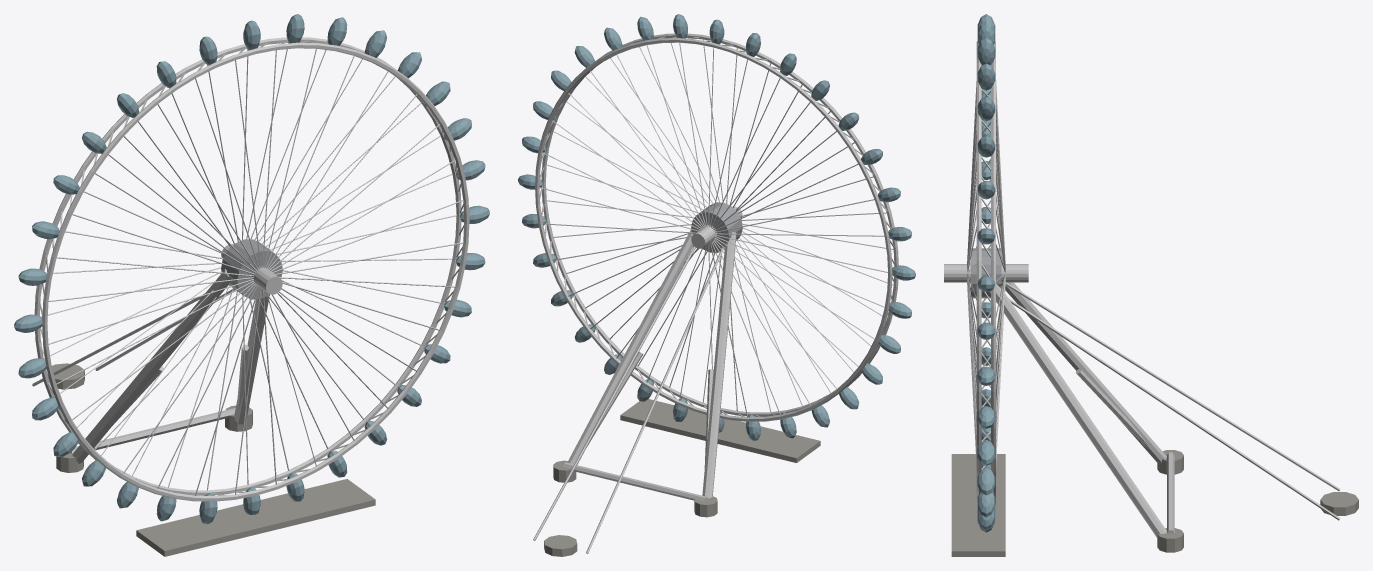
Rendered from london_eye.glb.
3 views of the same model, side by side, from view 1: azimuth 30°, elevation 25°; view 2: azimuth 150°, elevation 25°; view 3: azimuth 270°, elevation 25° (orthographic). The views are drawn at different scales.
Visible parts, largest first — view 1: london_eye; view 2: london_eye; view 3: london_eye.
Part boxes in pixels (left/top/right/bottom): london_eye: left=14, top=14, right=489, bottom=556; london_eye: left=518, top=14, right=915, bottom=556; london_eye: left=944, top=14, right=1358, bottom=556.
Bounding box in the file's own units: 135 × 136 × 108.
